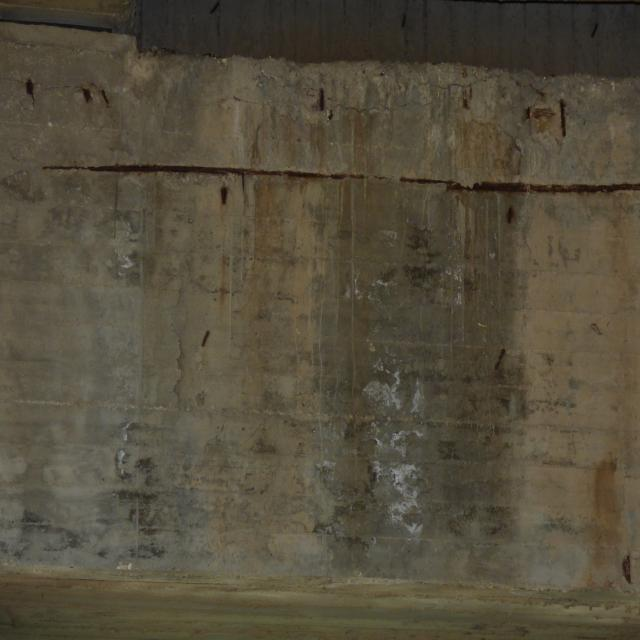corrosion: (198, 74, 363, 402), (37, 155, 640, 201), (438, 65, 576, 158), (578, 446, 638, 594), (75, 78, 124, 117), (19, 70, 44, 112), (491, 345, 509, 374), (503, 198, 518, 227)
